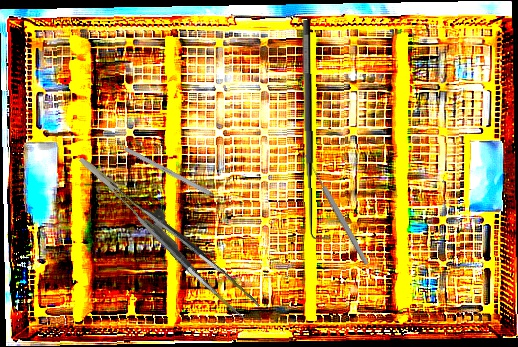Hook Surgical: (299, 19, 332, 243), (123, 146, 232, 207)
Surgical Spoon: (303, 153, 370, 266)
Tissue Forceps: (78, 131, 261, 335)
